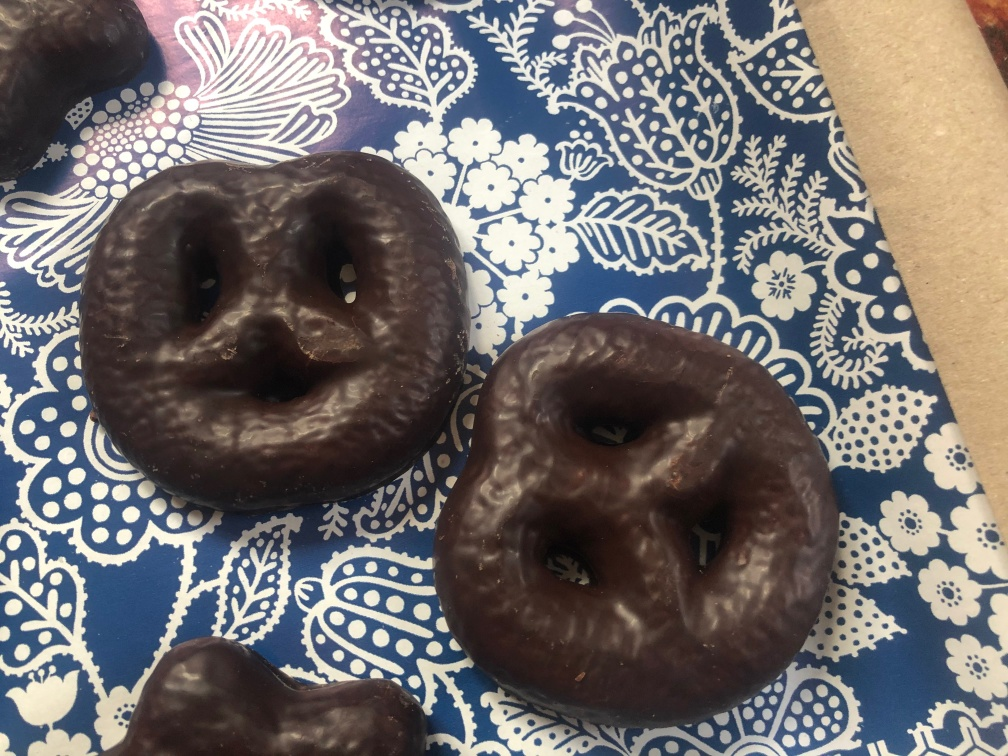bretzel: (438, 309, 842, 728), (78, 147, 464, 515)
